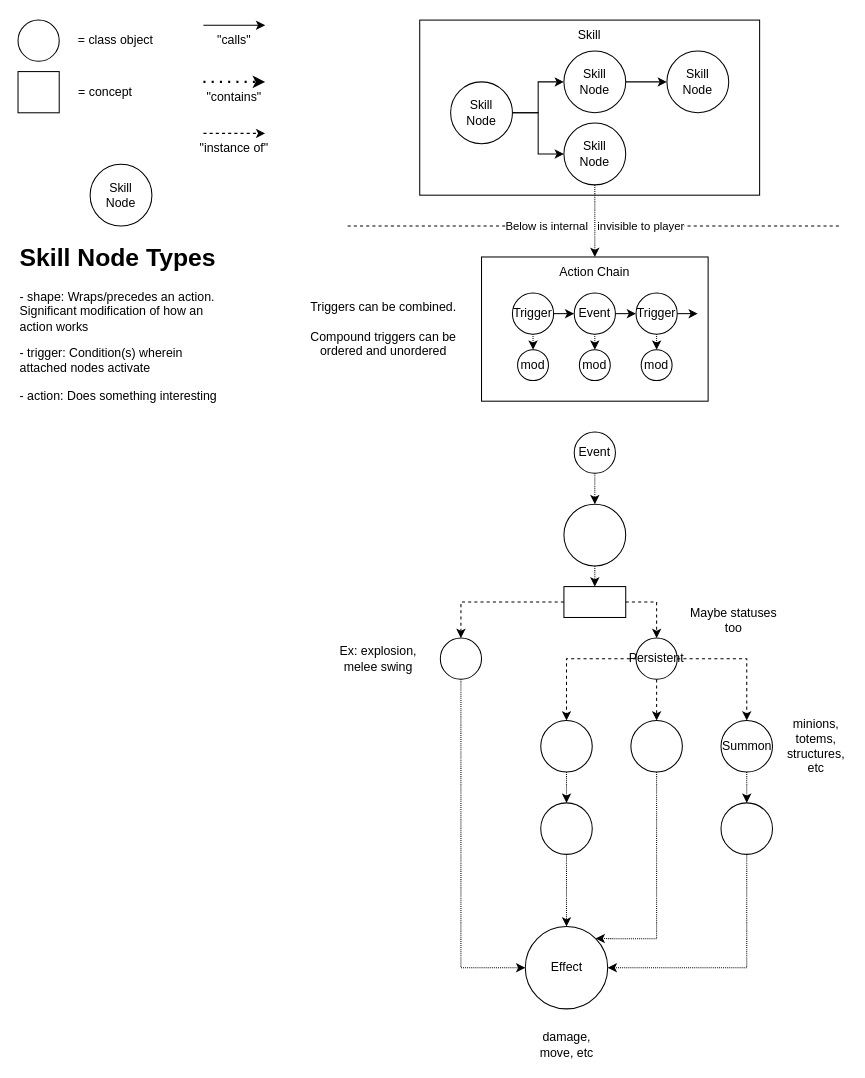
Image size: 865x1078. Some labels were removed from this diagram. The shapes that lost their labels are listed below. From the top down, each one's centre as x and y in pixels, then its label:
the point at 594,534: Actionable
the point at 594,601: Shape
the point at 460,658: Instant
the point at 566,745: Emission
the point at 656,745: Field
the point at 566,828: Projectile
the point at 746,828: Summonable
